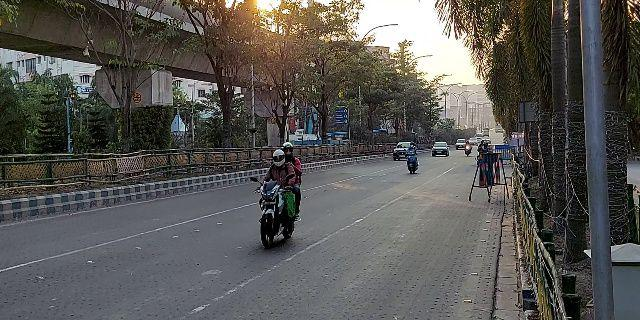Car: (390, 139, 409, 163), (430, 139, 449, 159)
Motorbike: (251, 136, 306, 253), (404, 139, 421, 179)
